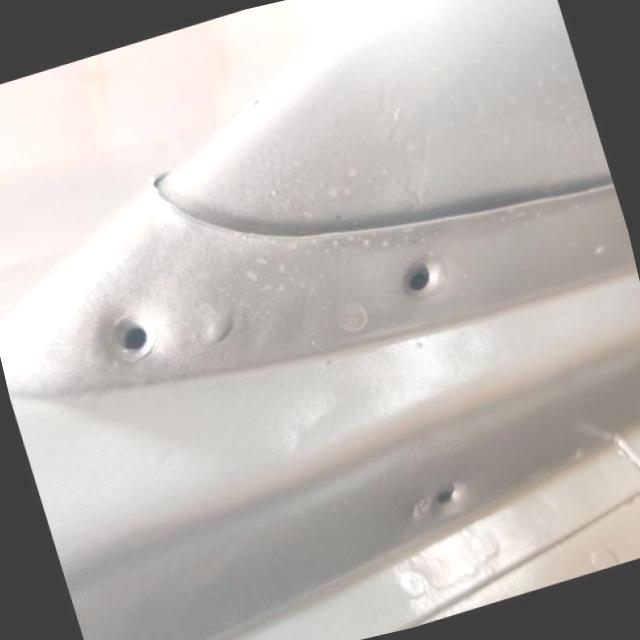Missing Fastener: (102, 310, 158, 364), (396, 254, 444, 301), (428, 478, 468, 514)
